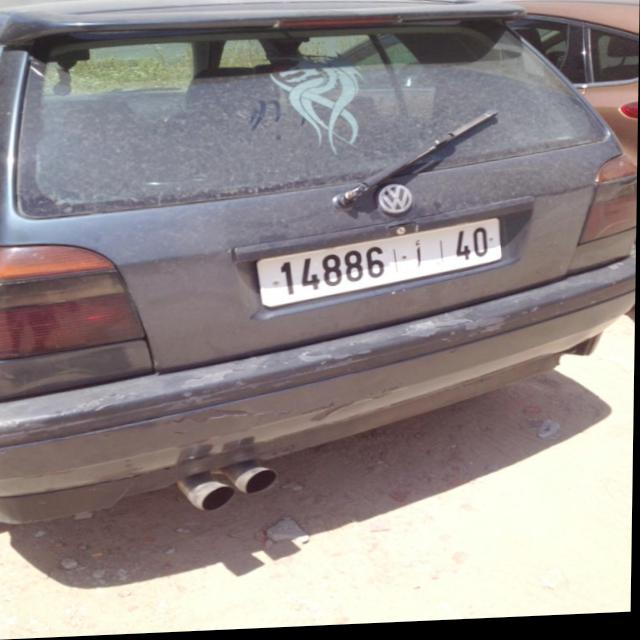License-Plate: (258, 223, 503, 309)
